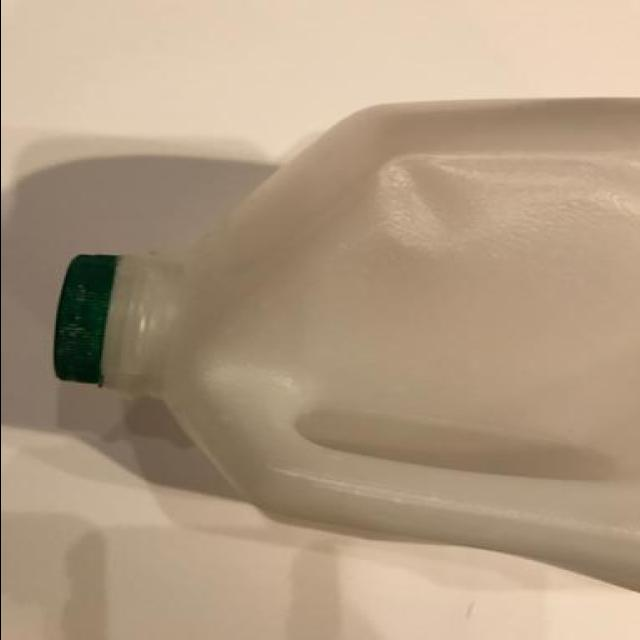HDPEM: (33, 94, 637, 596)
